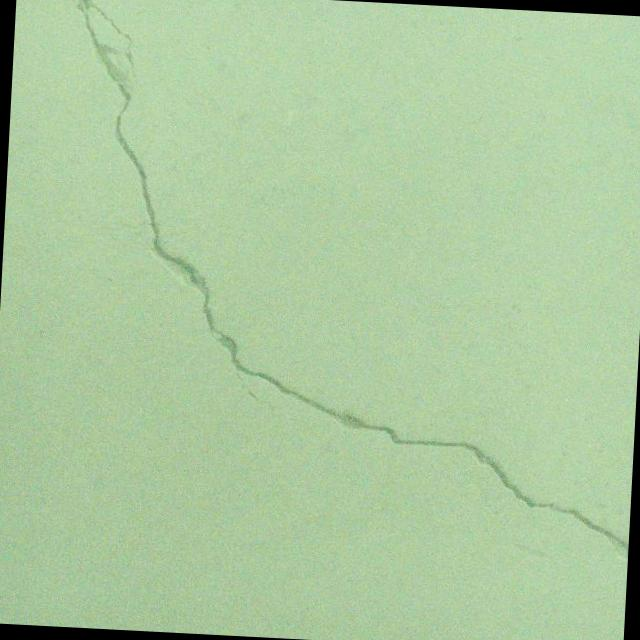crack: (8, 0, 640, 559), (15, 188, 35, 196)
